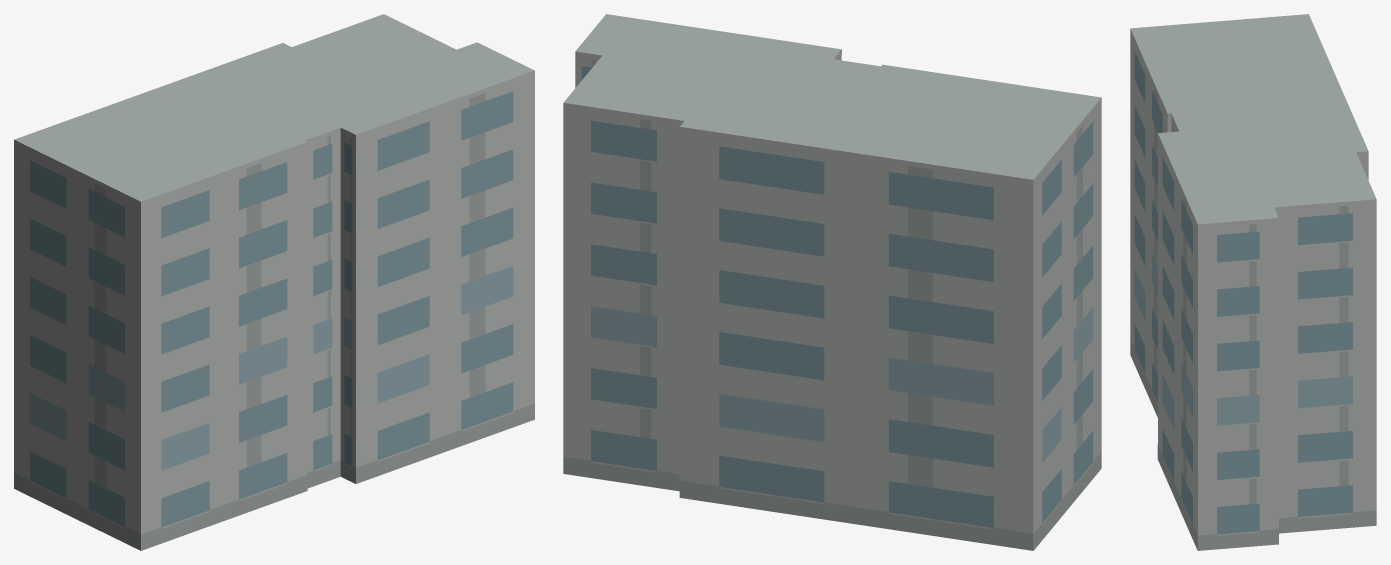
File: survey-upis-32641924.glb
3 views of the same model, side by side, from view 1: azimuth 30°, elevation 25°; view 2: azimuth 150°, elevation 25°; view 3: azimuth 270°, elevation 25° (orthographic). The views are drawn at different scales.
Parts seen in each view (by area): view 1: survey-upis-32641924.tmp; view 2: survey-upis-32641924.tmp; view 3: survey-upis-32641924.tmp.
Part boxes in pixels (x1,y1,x2,y2): survey-upis-32641924.tmp: (14,14,534,550); survey-upis-32641924.tmp: (563,14,1101,550); survey-upis-32641924.tmp: (1130,14,1376,550).
Bounding box in the file's own units: 25.32 × 18.3 × 12.53.
